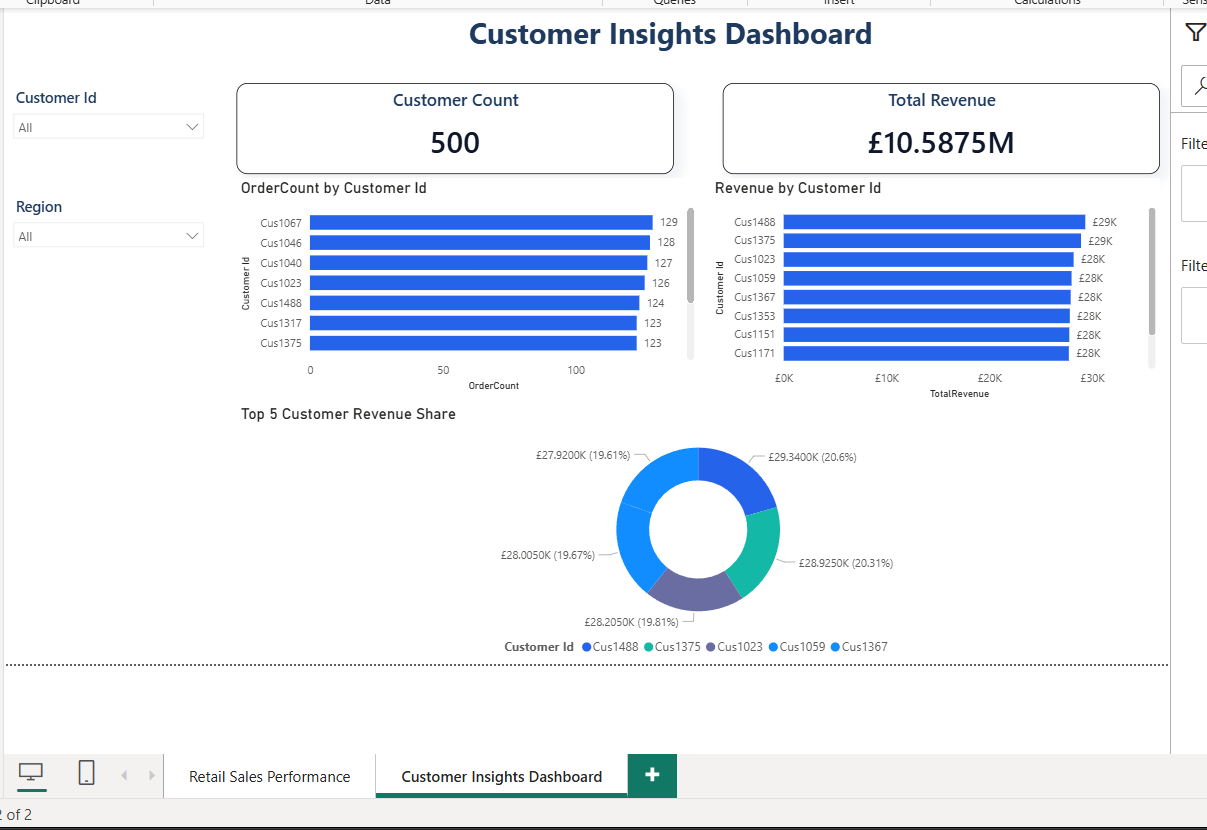

Layout of this report page (visuals, bound fields, positions):
{"tool":"powerbi","page":{"name":"Customer Insights Dashboard","canvas":[1280,720],"ordinal":1},"visuals":[{"type":"textbox","box":[417.2,0,629.8,61.7],"z":0},{"type":"cardVisual","title":"Customer Count","fields":{"Data":["SalesData1.CustomerCount"]},"box":[255.2,82.3,480,100.2],"z":1000},{"type":"cardVisual","title":"Total Revenue","fields":{"Data":["SalesData1.TotalRevenue"]},"box":[789,82.3,480,100.2],"z":2000},{"type":"clusteredBarChart","title":"Revenue by Customer Id","fields":{"Y":["SalesData1.TotalRevenue"],"Category":["SalesData1.Customer Id"]},"box":[775.3,186.6,494,248.4],"z":3000},{"type":"clusteredBarChart","title":"OrderCount by Customer Id","fields":{"Category":["SalesData1.Customer Id"],"Y":["SalesData1.OrderCount"]},"box":[255.2,186.6,507.7,238.8],"z":4000},{"type":"donutChart","title":"Top 5 Customer Revenue Share","fields":{"Category":["SalesData1.Customer Id"],"Y":["SalesData1.TotalRevenue"]},"box":[255.2,435,1014.1,285.4],"z":5000},{"type":"slicer","fields":{"Values":["SalesData1.Customer Id"]},"box":[0,82.3,229.2,83.7],"z":6000},{"type":"slicer","fields":{"Values":["SalesData1.Region"]},"box":[0,201.7,229.2,83.7],"z":7000}]}

Visuals, with their boxes on the page's 1280x720 design canvas (x1, y1, x2, y2). These are canvas units, not pixel positions in the 1207x830 screenshot, which may show the page scaled, cropped or inside an application window:
textbox: left=417, top=0, right=1047, bottom=62
"Customer Count" cardVisual: left=255, top=82, right=735, bottom=182
"Total Revenue" cardVisual: left=789, top=82, right=1269, bottom=182
"Revenue by Customer Id" clusteredBarChart: left=775, top=187, right=1269, bottom=435
"OrderCount by Customer Id" clusteredBarChart: left=255, top=187, right=763, bottom=425
"Top 5 Customer Revenue Share" donutChart: left=255, top=435, right=1269, bottom=720
slicer - SalesData1.Customer Id: left=0, top=82, right=229, bottom=166
slicer - SalesData1.Region: left=0, top=202, right=229, bottom=285
